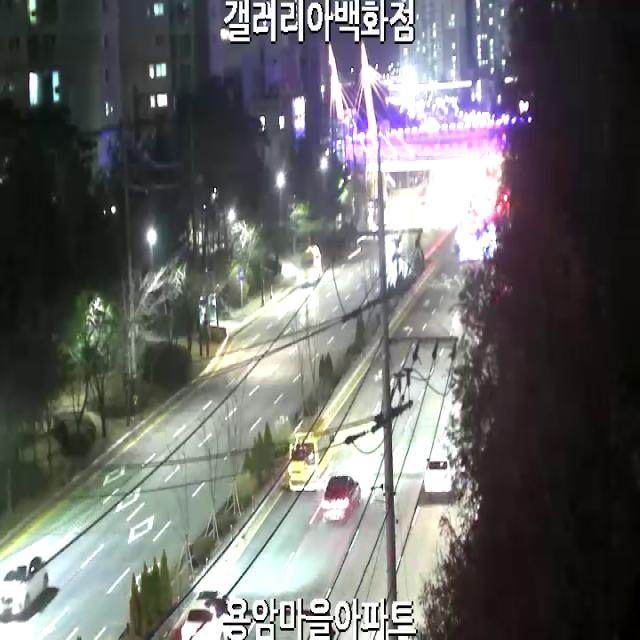Car: (288, 418, 335, 492), (0, 555, 49, 616), (182, 589, 228, 640), (322, 476, 360, 522), (423, 457, 452, 494)
